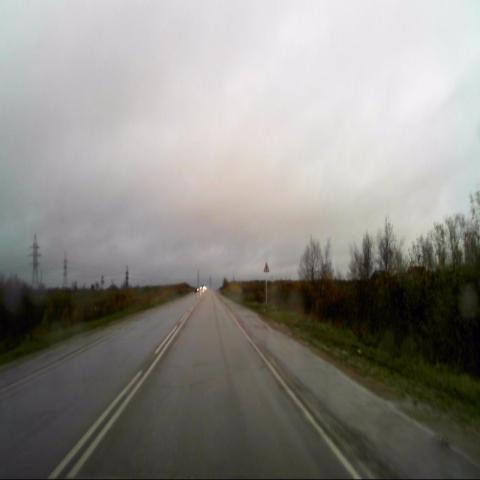2_3_2: (262, 261, 270, 273)
